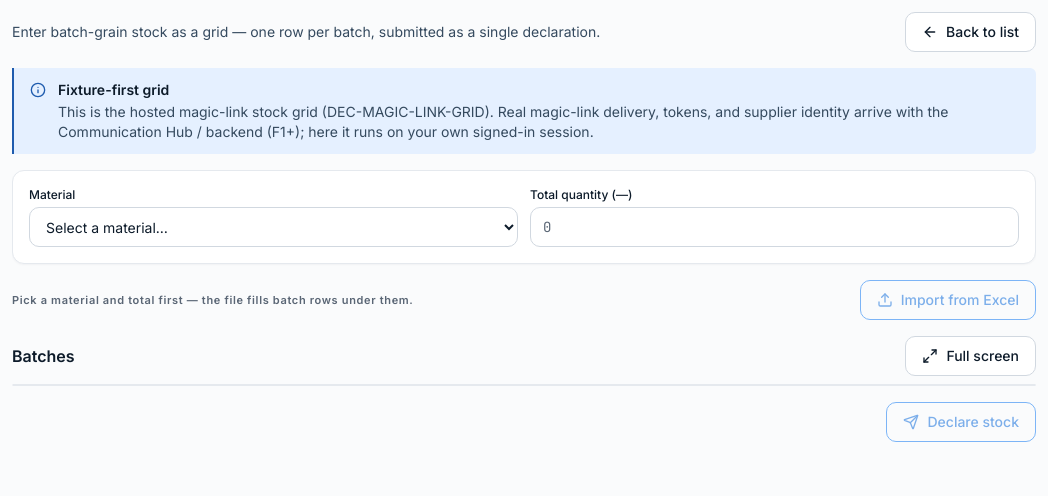
it: BulkStockEntryGrid — the Σ banner reads the ONE parse (CP-0 · 2d) › an AMBIGUOUS total states the refusal — never a fabricated Σ mismatch
Select "PK-PETB-8810 — PET Bottle 250ml (PCS)" in the dropdown with id "sdcsup-bulk-material": (274, 227) [29,207,518,247]
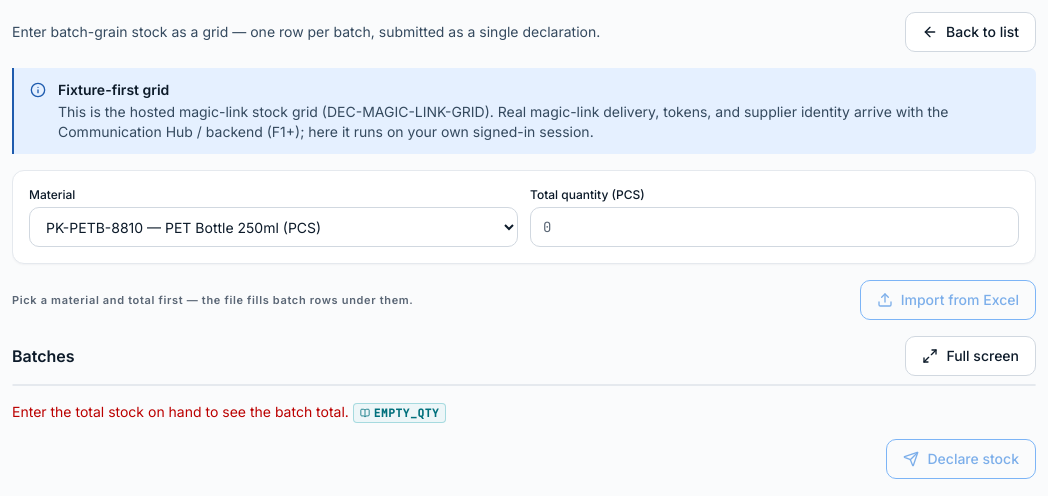
In the field with id "sdcsup-bulk-total": (774, 227) [530,207,1019,247], type "4.000"
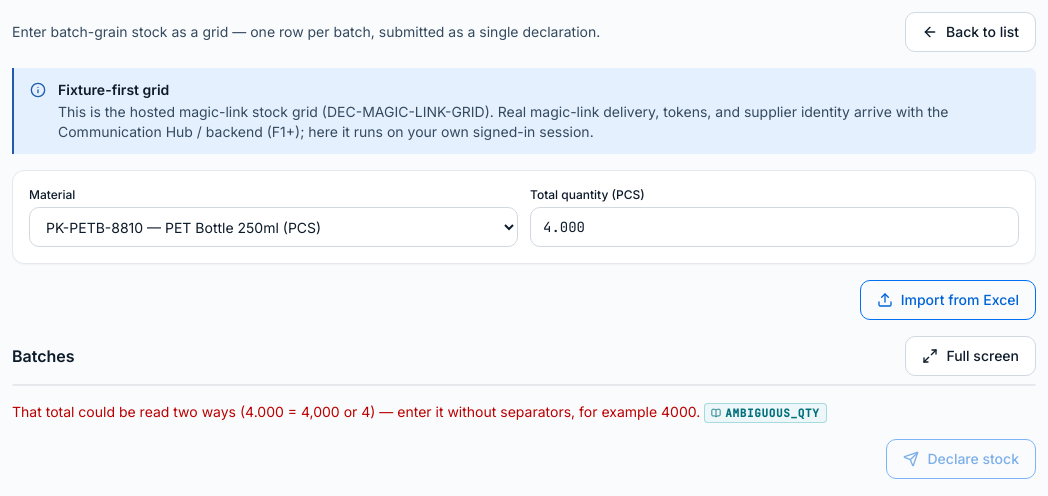
Expected: the element with test id "sdcsup-bulk-summary" does not show ""
Expected: the element with test id "sdcsup-bulk-summary" shows "could be read two ways", [12,403,700,420]
